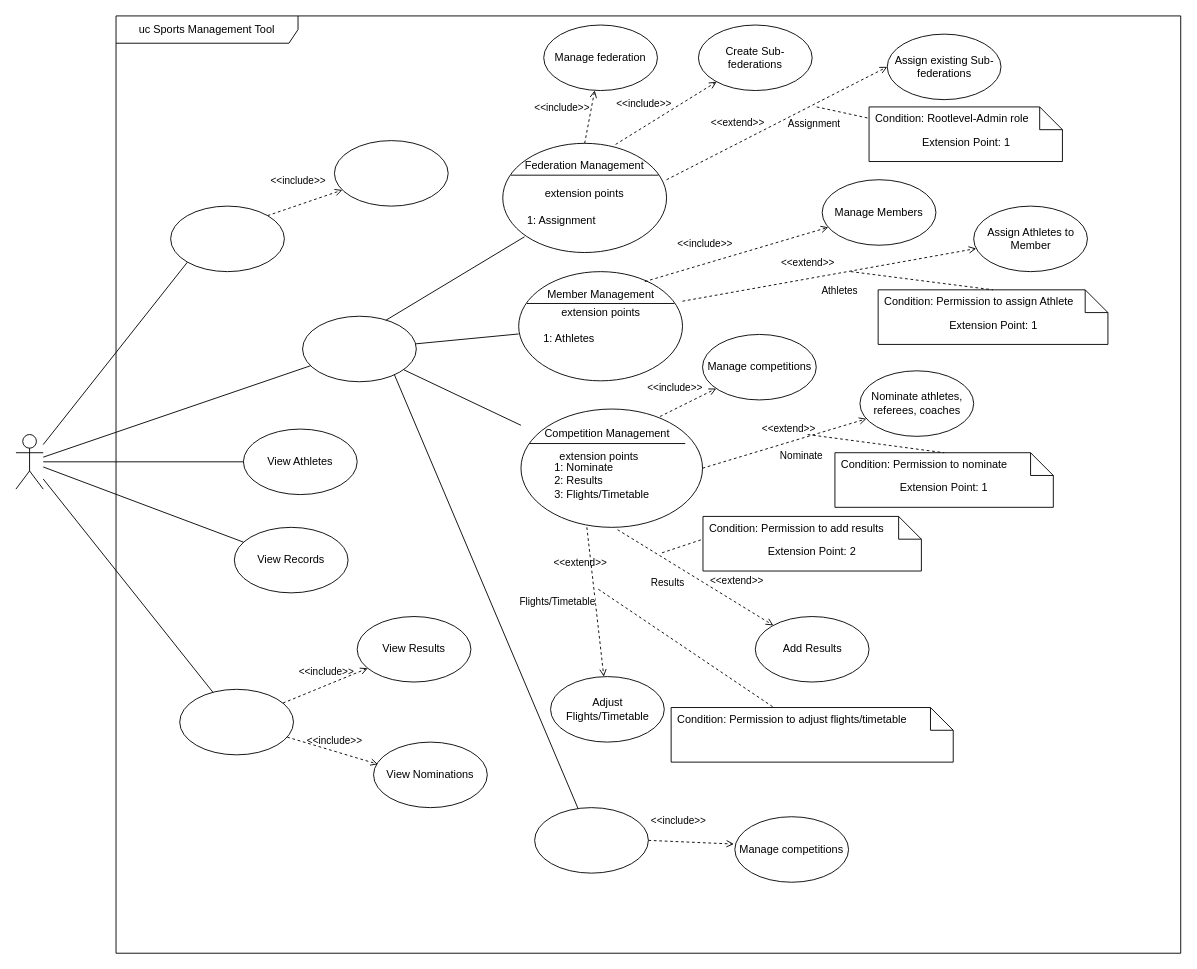
The diagram is 1197 pixels wide and 969 high, and some of its shapes have lost their labels. Each missing label, with the box of its shape:
Athlete Management: (534, 807, 648, 873)
Contact Federation: (334, 140, 448, 206)
Extension Point: 3: (670, 707, 953, 762)
Login: (302, 315, 416, 382)
User: (15, 434, 43, 489)
View Competitions: (179, 688, 293, 755)
View Federations: (170, 205, 284, 272)
